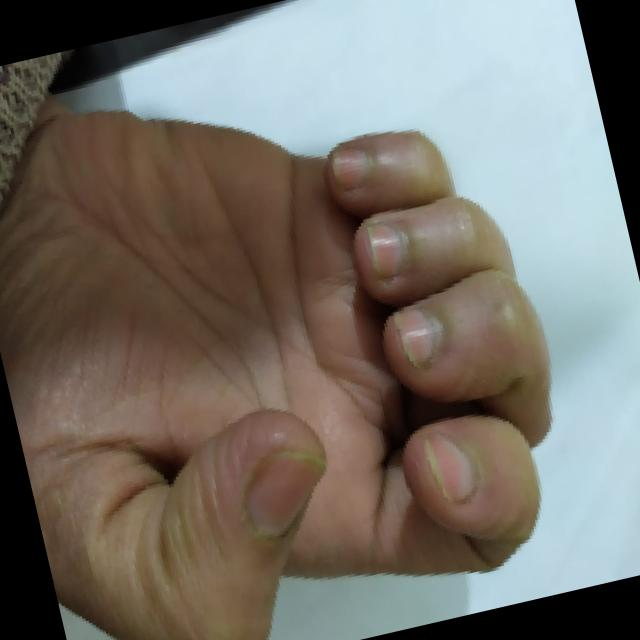Nail: (246, 449, 324, 536), (424, 433, 475, 502), (394, 309, 433, 366), (367, 223, 402, 278), (329, 148, 369, 189)
